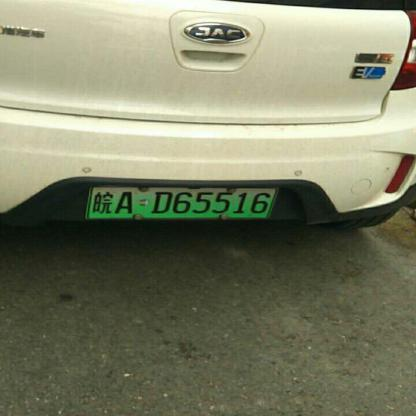lp: (86, 184, 276, 217)
